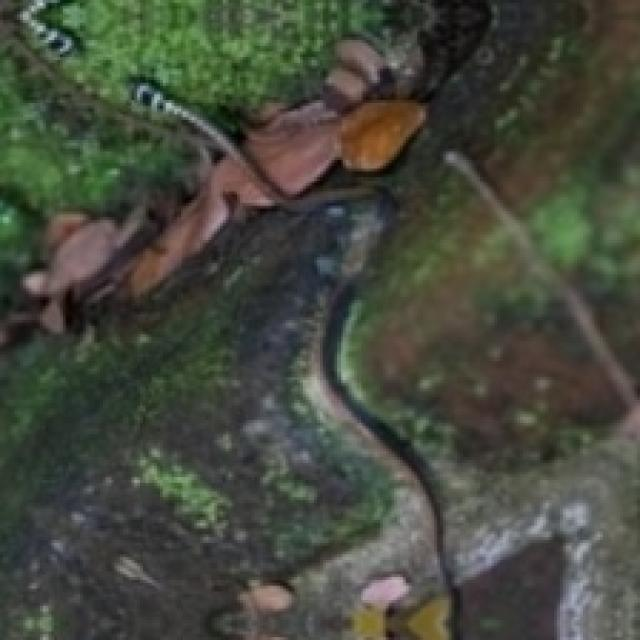paradise tree snake: (0, 140, 449, 637), (0, 0, 360, 143), (380, 3, 486, 94)
